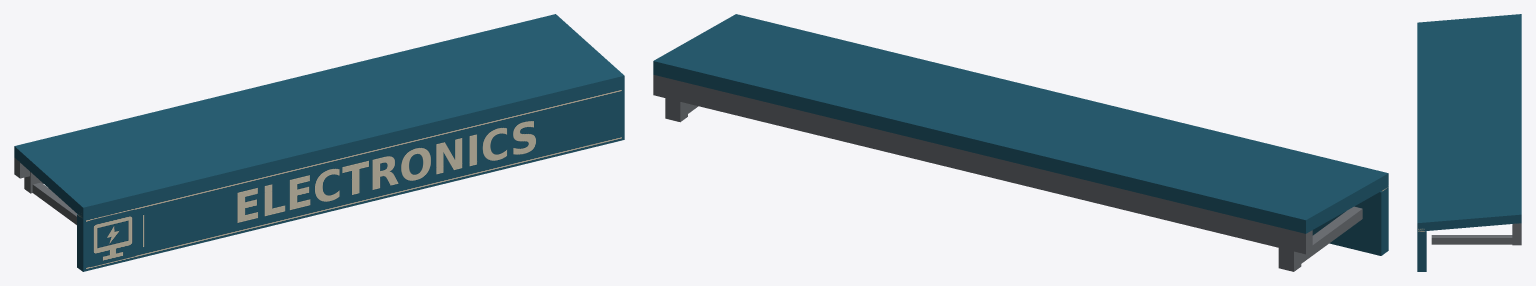
The model's file is building-business-electronics.glb.
The picture shows the model from 3 angles, left to right: view 1: azimuth 30°, elevation 25°; view 2: azimuth 150°, elevation 25°; view 3: azimuth 270°, elevation 25°; orthographic projection. The views are drawn at different scales.
Visible parts, largest first — view 1: business-electronics; view 2: business-electronics; view 3: business-electronics.
Part boxes in pixels (bbox=[...]): business-electronics: bbox=[14, 14, 624, 271]; business-electronics: bbox=[653, 14, 1388, 271]; business-electronics: bbox=[1417, 14, 1521, 271].
Bounding box in the file's own units: 3 × 0.4 × 0.66.
Materials: 4 (1 with a texture image).
